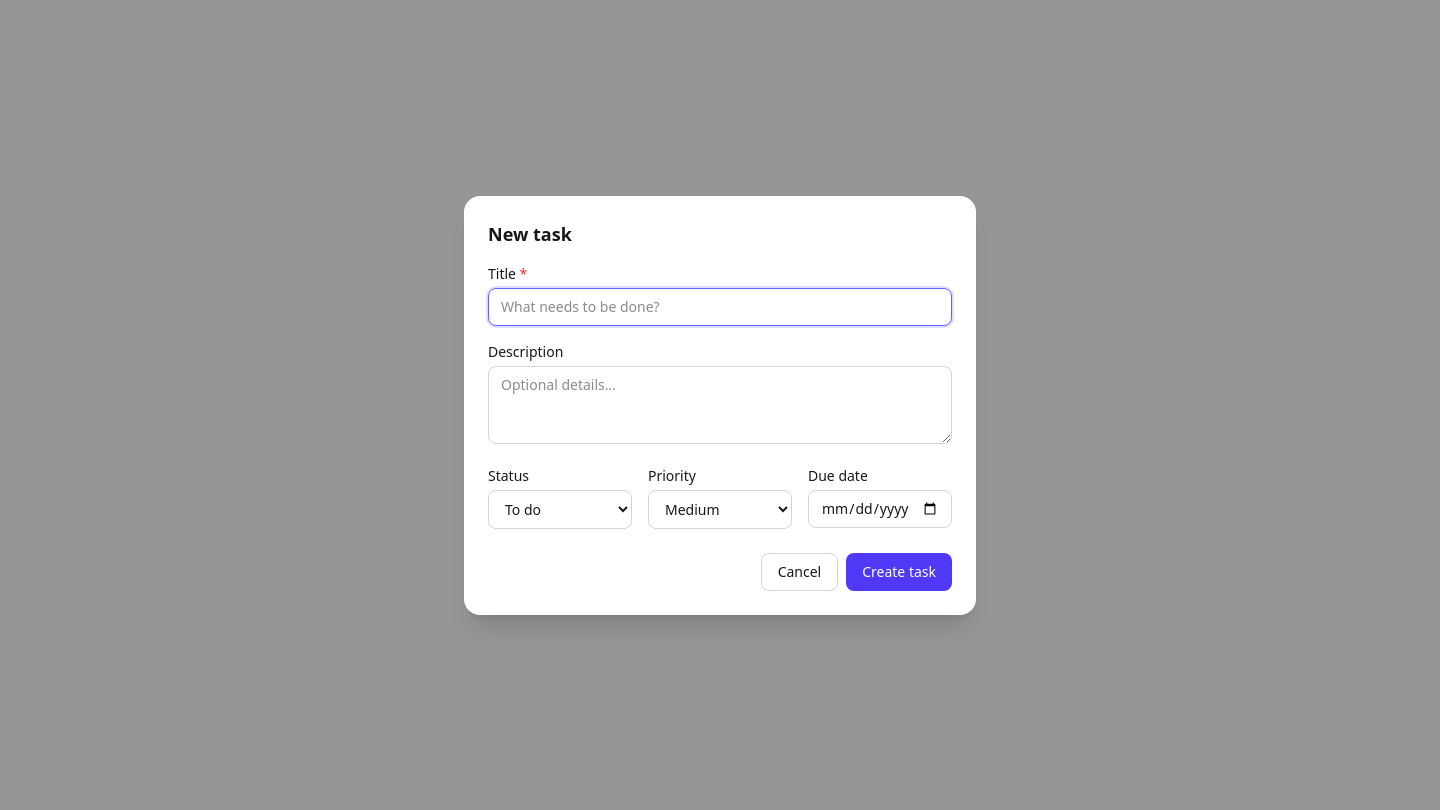
Test: TaskFormModal › shows a form error when the server rejects
In the field labelled "Title *": (720,306) [488,288,952,326], type "Task"
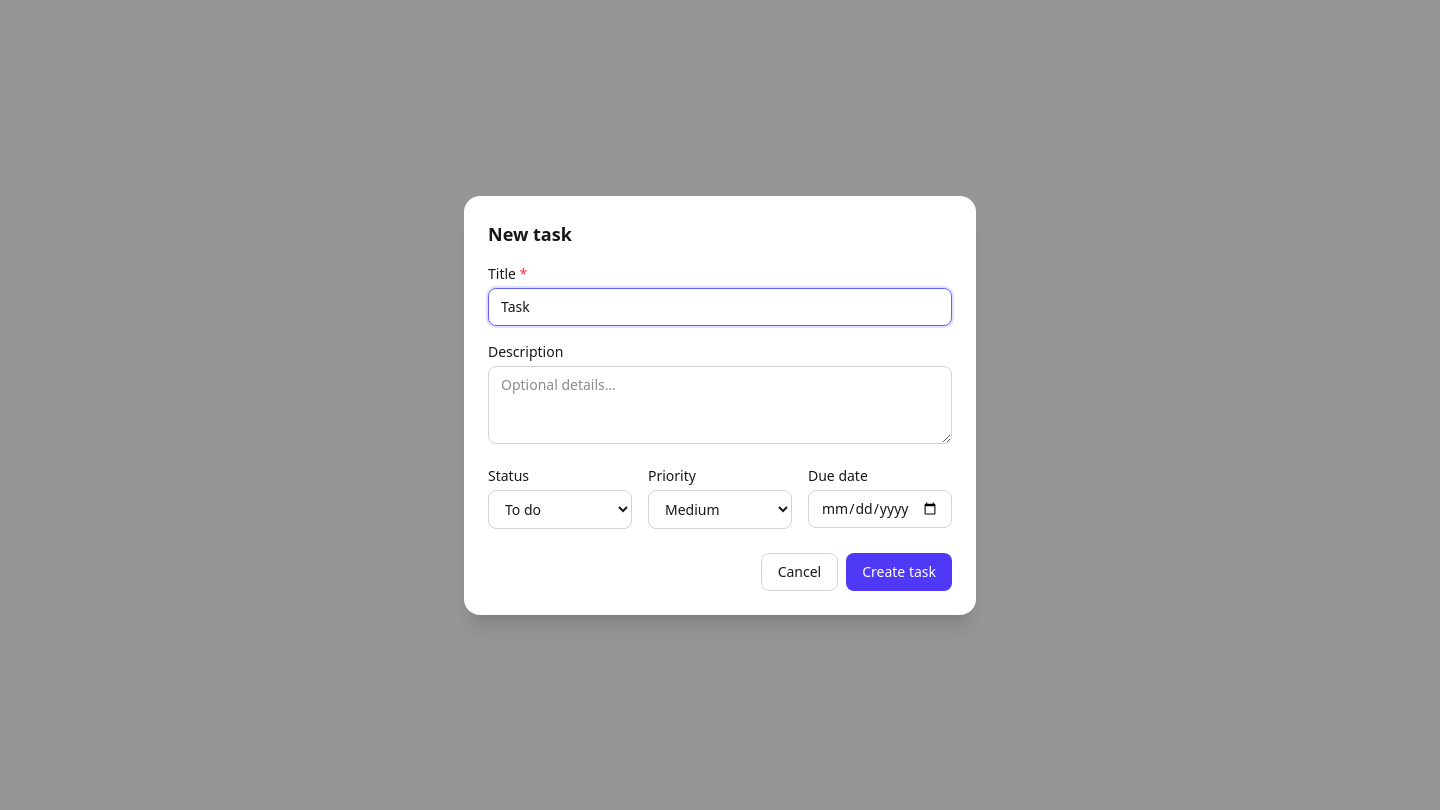
Click the button "Create task": (899,572) [846,552,952,590]
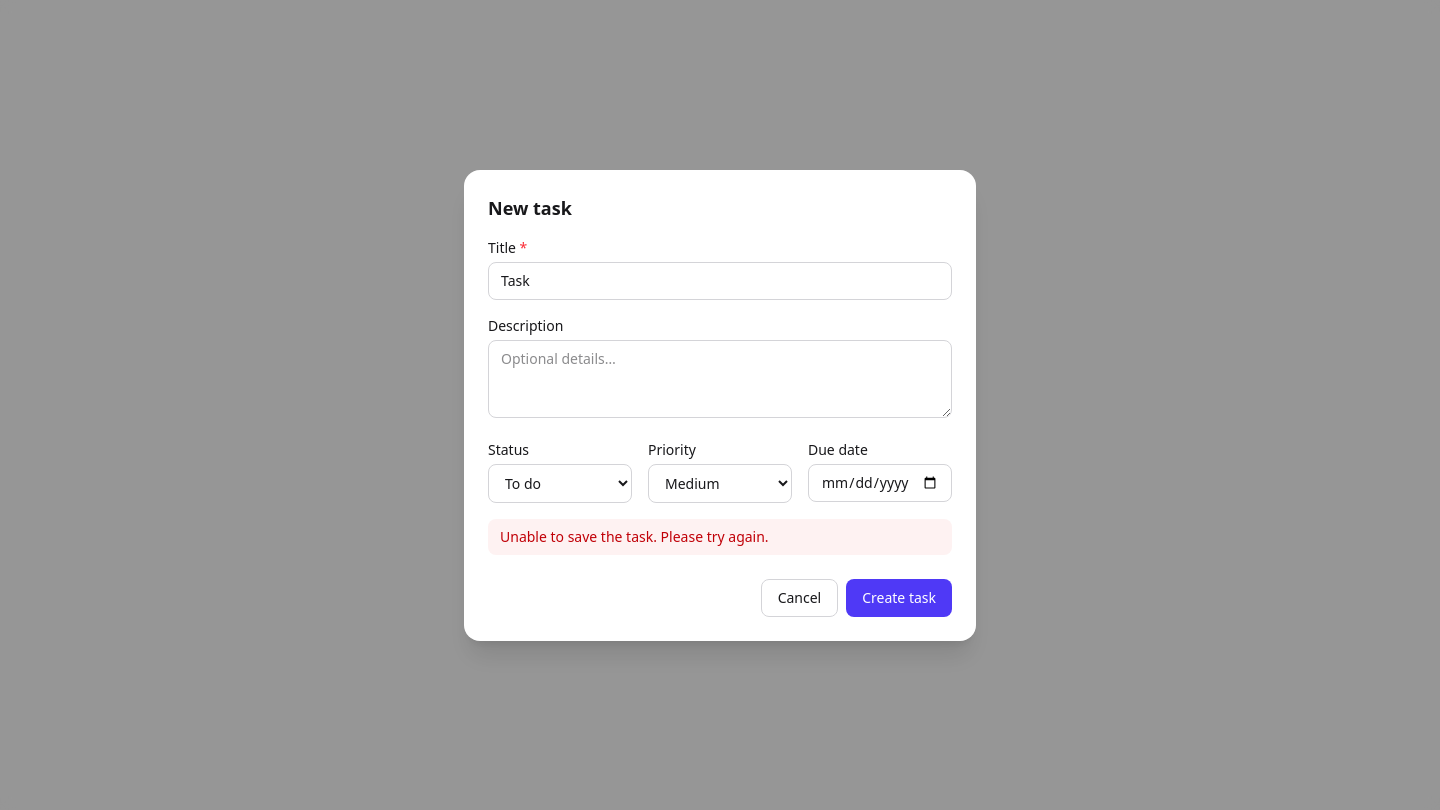
Result: the message shows "Unable to save" at [500,526,769,546]
